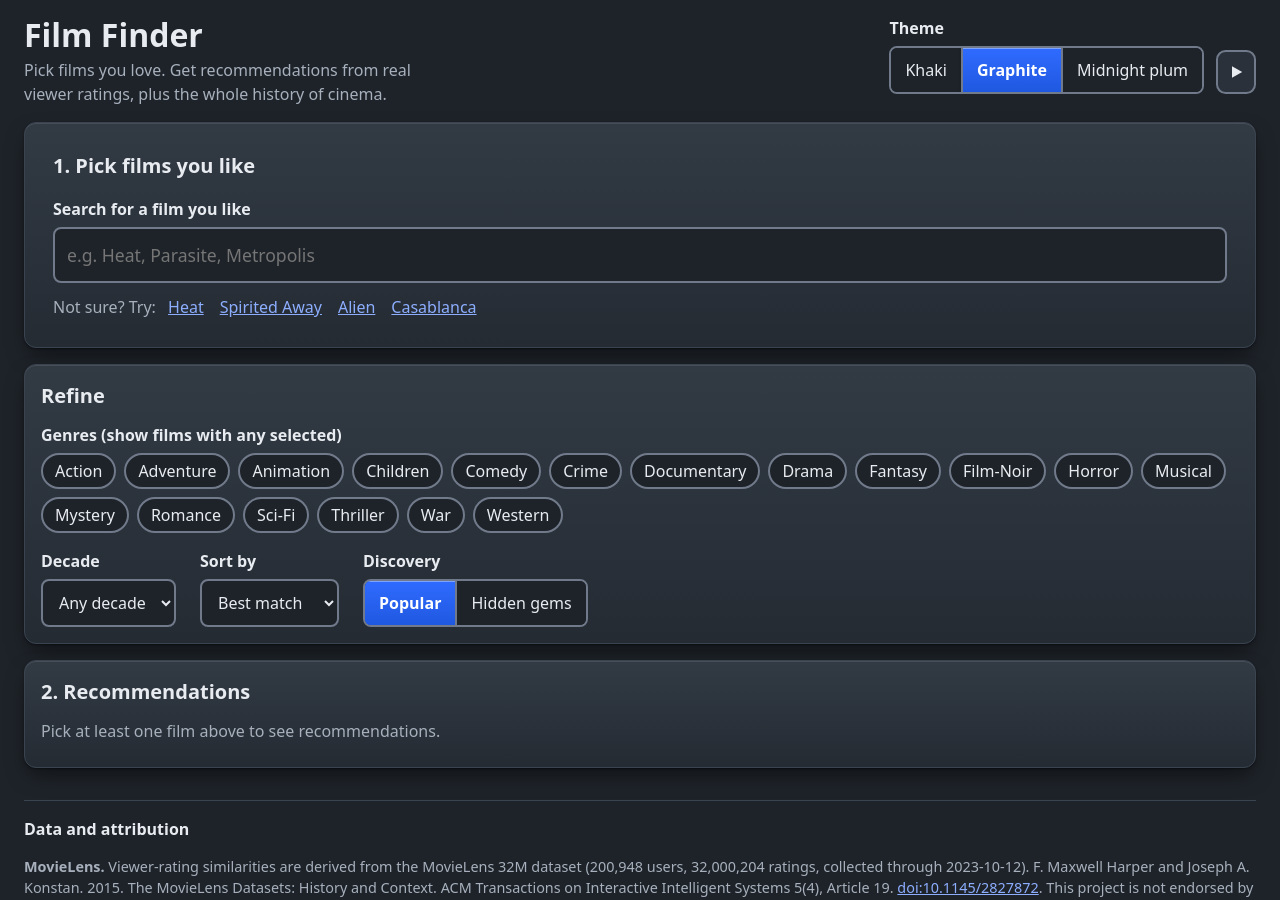
App › toggles motion and persists it; play icon when static
Check: the dropdown labelled "Search for a film you like" is enabled, box [53,227,1227,283]
Step 1. Click the button named "Play background animation" → coordinates (1236, 72), box [1216,50,1256,94]
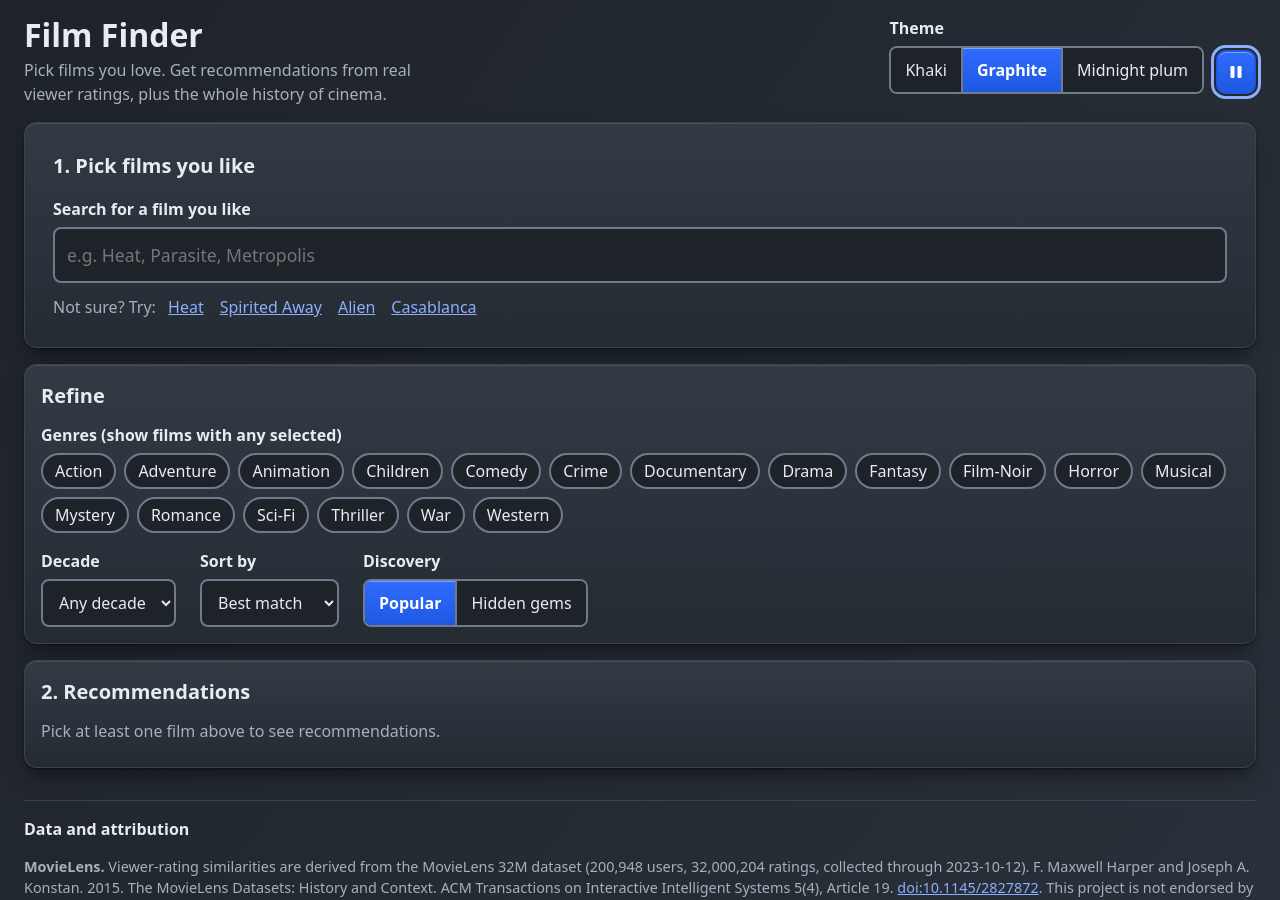
Check: the button named "Stop background animation" is pressed, box [1216,50,1256,94]
